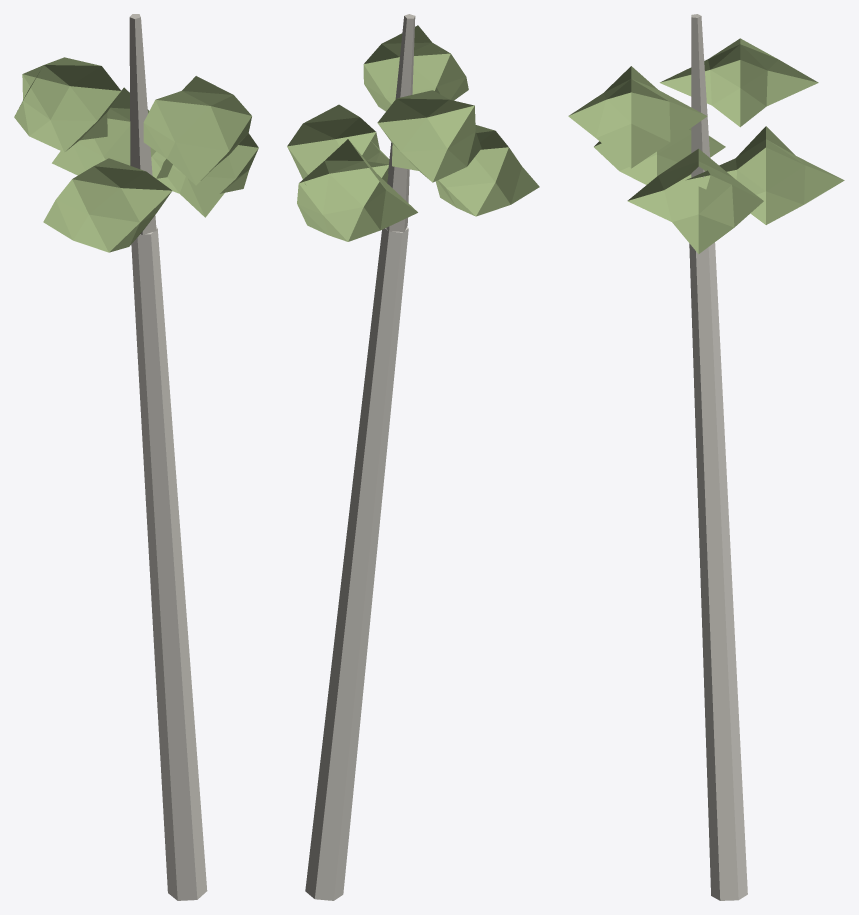
File: birch_v16.glb
3 views of the same model, side by side, from view 1: azimuth 30°, elevation 25°; view 2: azimuth 150°, elevation 25°; view 3: azimuth 270°, elevation 25° (orthographic). The views are drawn at different scales.
Visible parts, largest first — view 1: lod0; view 2: lod0; view 3: lod0.
Boxes of the visible parts, <box> form: lod0: <box>14,14,258,900</box>; lod0: <box>287,14,539,900</box>; lod0: <box>568,14,844,900</box>.
Size of what is drawn, in the model's own units: 1.81 by 6.61 by 1.95.
